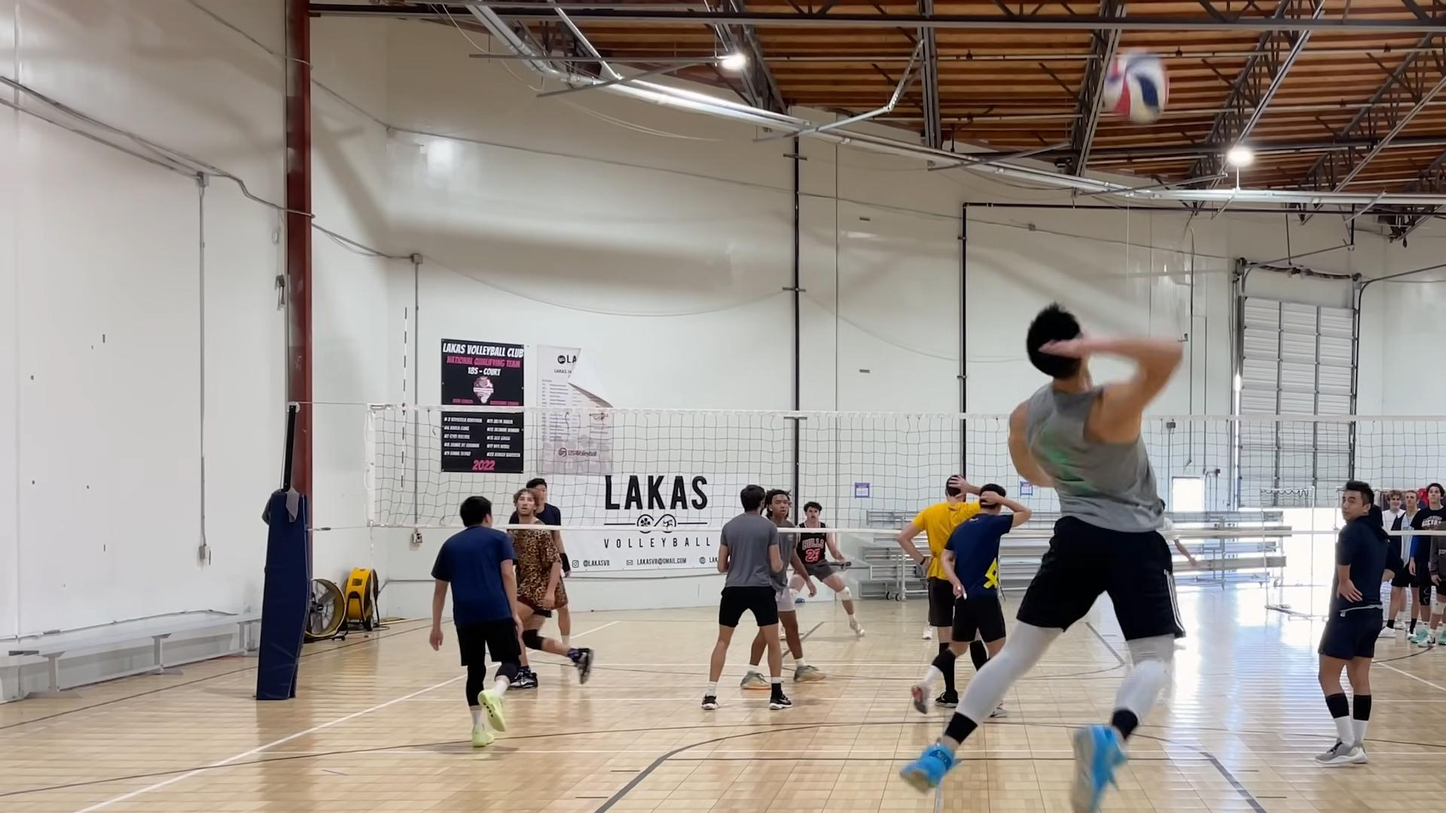Player: (911, 483, 1030, 712), (1316, 481, 1402, 765), (429, 496, 520, 746), (702, 486, 791, 709), (509, 488, 593, 682), (896, 475, 979, 653), (798, 501, 864, 637), (776, 533, 824, 681), (1162, 516, 1197, 567), (525, 477, 560, 525)
Serve: (902, 305, 1186, 813)
ball: (1104, 48, 1169, 123)
